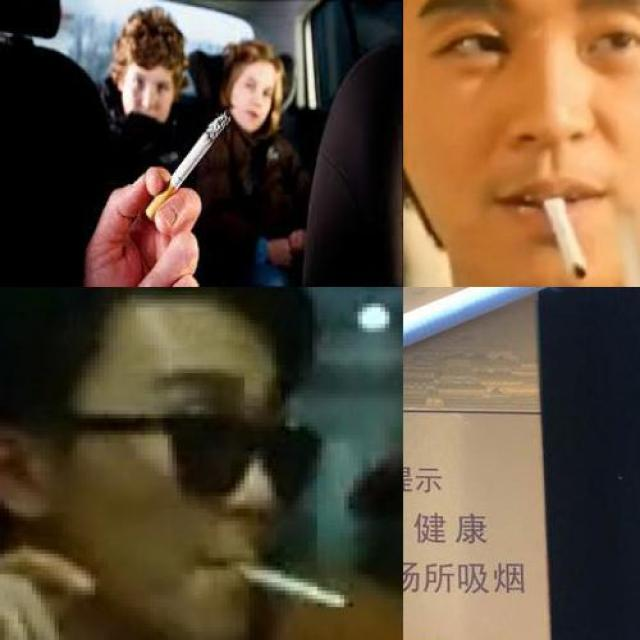smoking: (403, 286, 607, 492), (144, 111, 231, 222), (225, 554, 355, 610), (540, 187, 588, 281)
